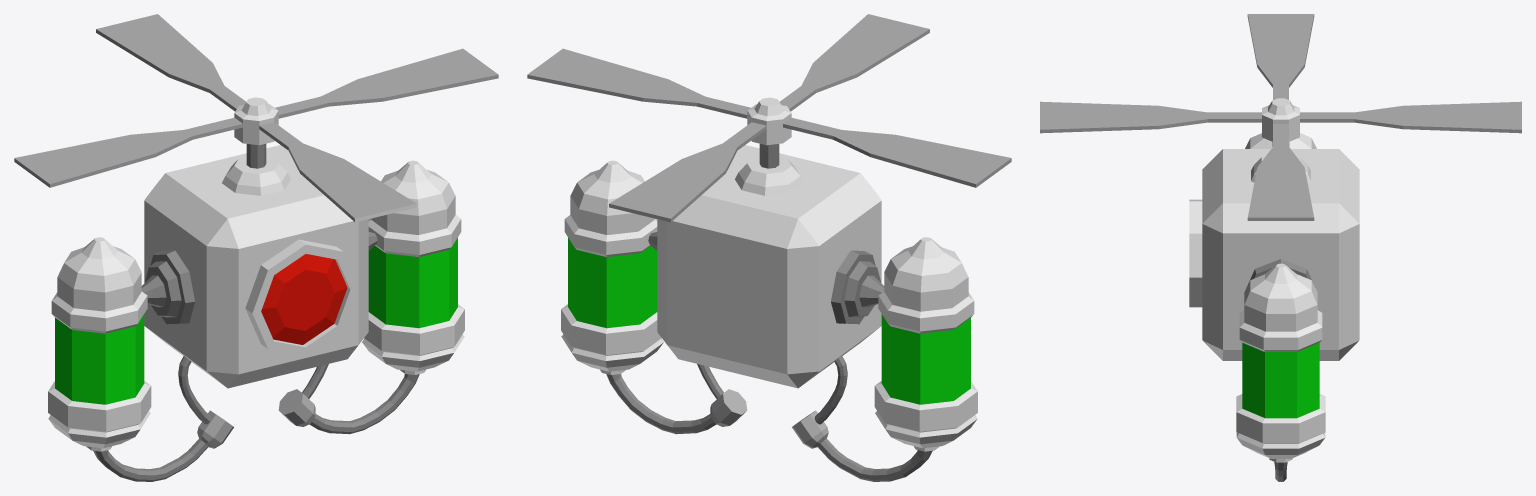
File: boom-bot.fbx
3 renders of one model, left to right at view 1: azimuth 30°, elevation 25°; view 2: azimuth 150°, elevation 25°; view 3: azimuth 270°, elevation 25°, orthographic. The views are drawn at different scales.
Parts seen in each view (by area): view 1: Cube, Cylinder.004, Cylinder, Cylinder.002, Cylinder.006; view 2: Cube, Cylinder.004, Cylinder, Cylinder.002, Cylinder.006; view 3: Cube, Cylinder, Cylinder.002, Cylinder.004.
Part boxes in pixels (left/top/right/bottom): Cube: left=144, top=145, right=368, bottom=388; Cylinder.004: left=48, top=237, right=233, bottom=481; Cylinder: left=14, top=14, right=498, bottom=222; Cylinder.002: left=278, top=160, right=464, bottom=434; Cylinder.006: left=222, top=143, right=290, bottom=195; Cube: left=657, top=145, right=881, bottom=388; Cylinder.004: left=792, top=237, right=977, bottom=481; Cylinder: left=527, top=14, right=1011, bottom=222; Cylinder.002: left=561, top=160, right=747, bottom=434; Cylinder.006: left=735, top=143, right=803, bottom=195; Cube: left=1189, top=149, right=1359, bottom=360; Cylinder: left=1040, top=14, right=1521, bottom=220; Cylinder.002: left=1236, top=259, right=1325, bottom=481; Cylinder.004: left=1245, top=133, right=1316, bottom=148.
Size of the model in its own units: 193 by 146 by 193.
